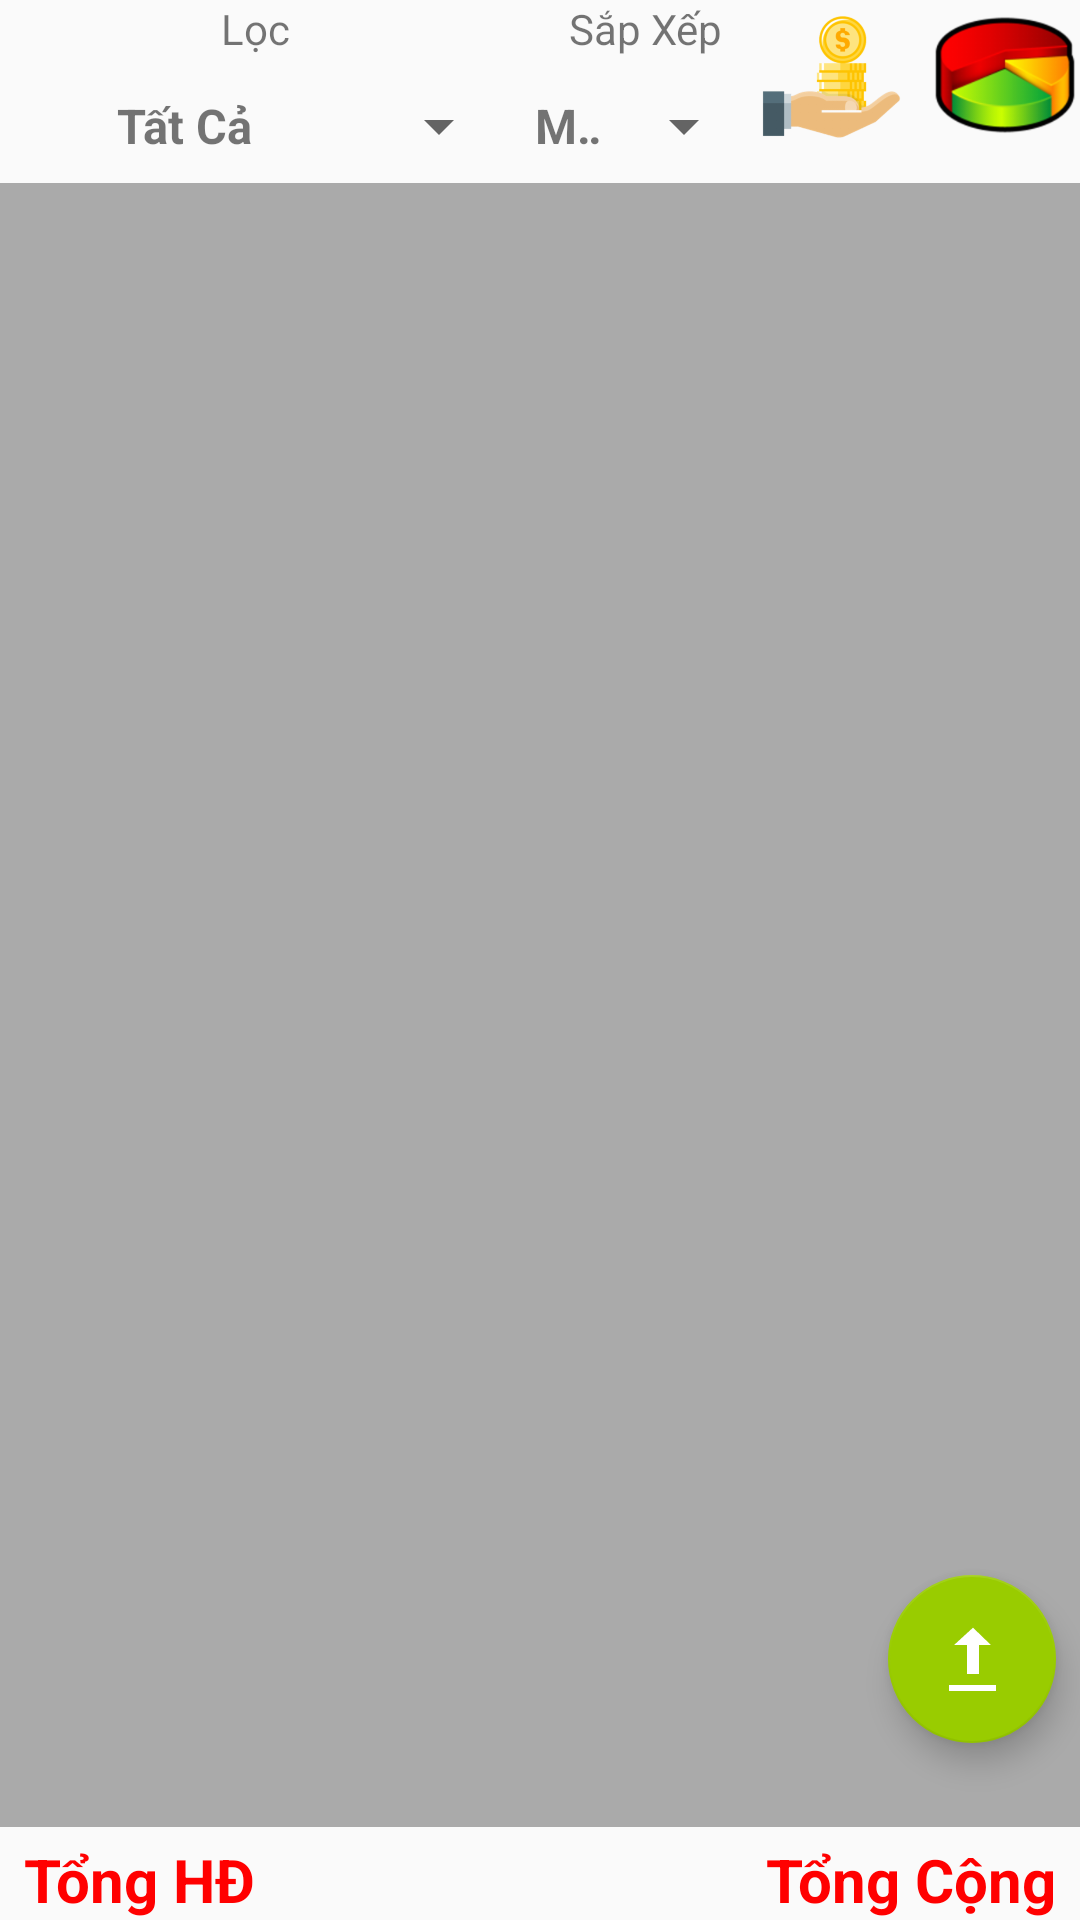

Where icons sit on this 1080px x 1920px app screen, as (left=x1, top=y1, right=x2, bottom=y2):
hanh thu: (left=763, top=16, right=900, bottom=138)
thong kex: (left=935, top=17, right=1075, bottom=133)
upload: (left=888, top=1575, right=1056, bottom=1743)
